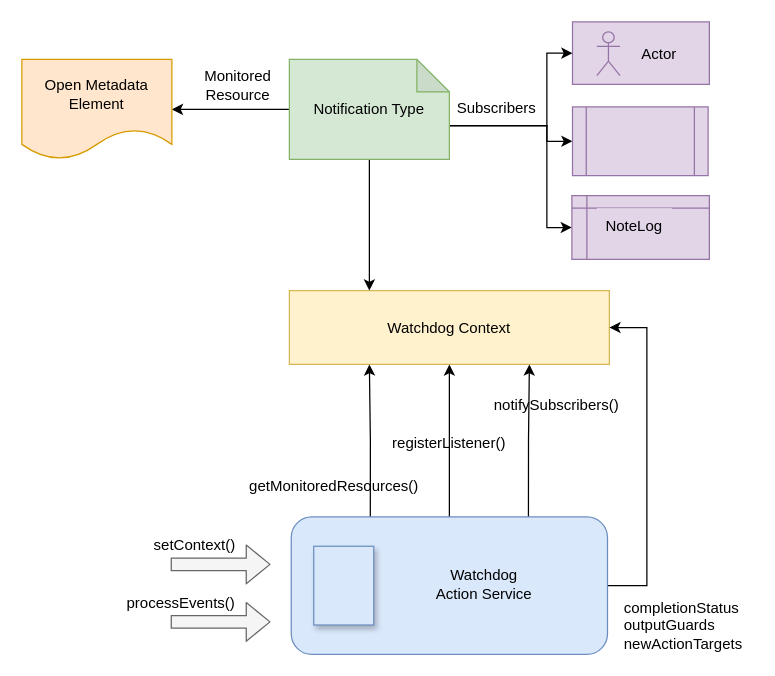
The diagram is 775 pixels wide and 676 high, and some of its shapes have lost their labels. The centre of each missing label's shape, as x and y in pixels:
"Governance Action Process" goes at point 639,141.
"Listener" goes at point 344,587.
